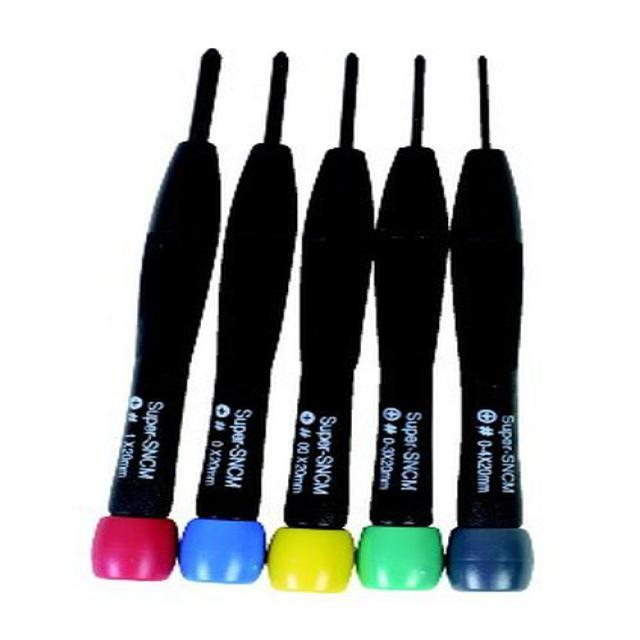screw driver: (92, 13, 246, 614)
